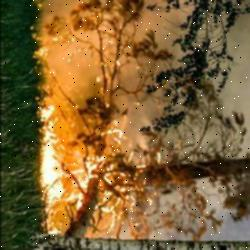fire: (27, 0, 172, 242)
